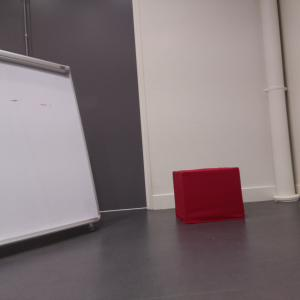big: (1, 54, 100, 247)
medium: (173, 167, 247, 224)
